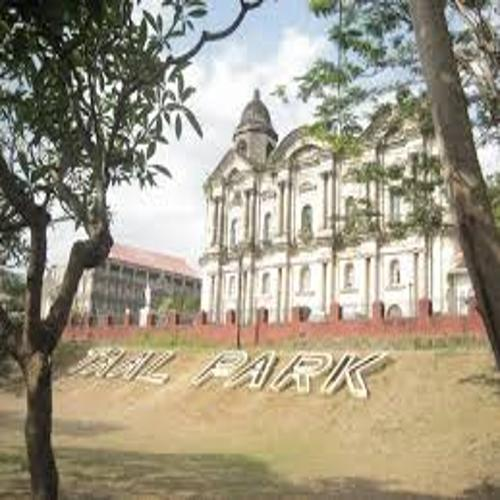Taal Basilica Church: (195, 70, 500, 321)
